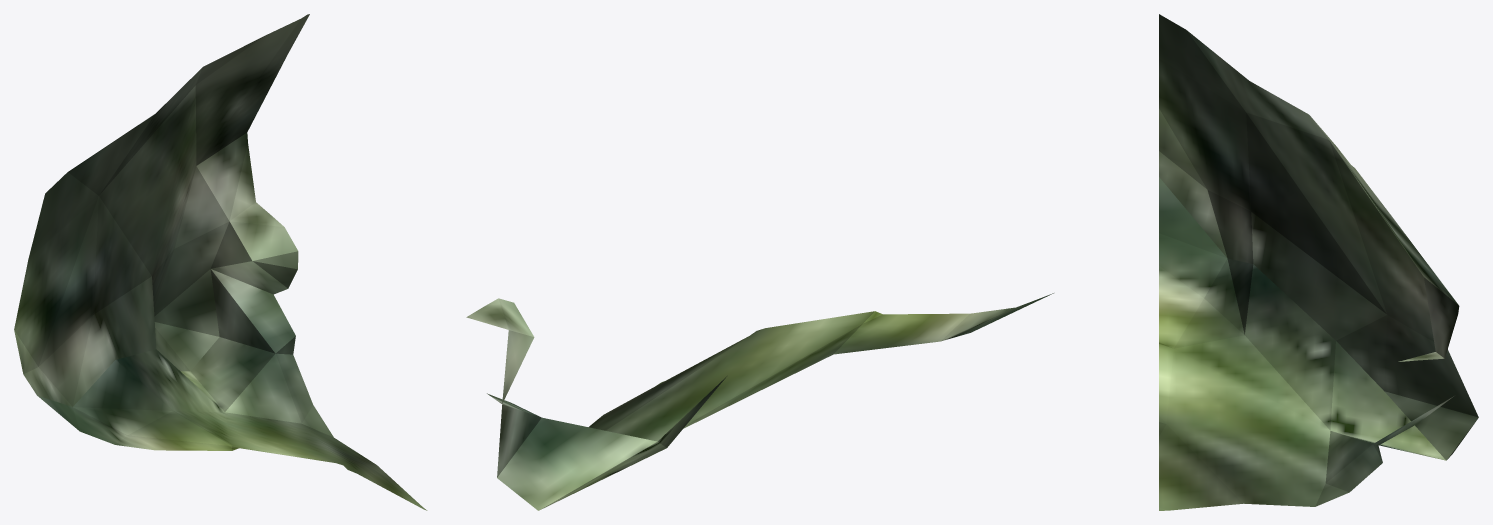
The picture shows the model from 3 angles, left to right: view 1: azimuth 30°, elevation 25°; view 2: azimuth 150°, elevation 25°; view 3: azimuth 270°, elevation 25°; orthographic projection. The views are drawn at different scales.
Bounding box in the file's own units: 4.49 × 4.26 × 3.62.
Materials: 1 (1 with a texture image).
